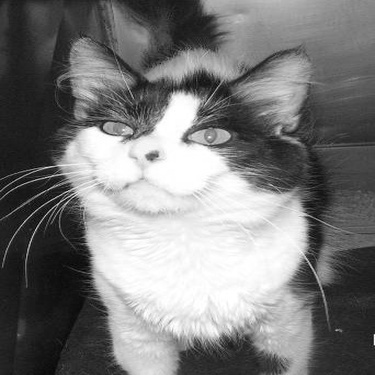cat: (44, 19, 336, 352)
